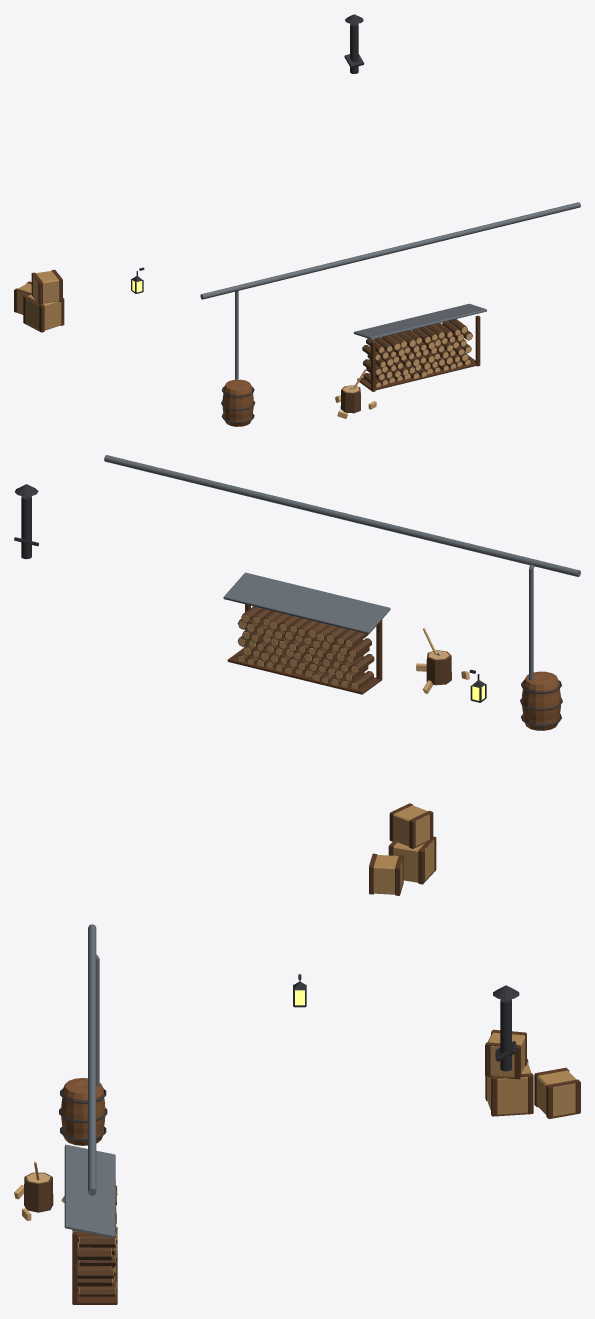
File: shed_props.glb
3 views of the same model, one above another, from view 1: azimuth 30°, elevation 25°; view 2: azimuth 150°, elevation 25°; view 3: azimuth 270°, elevation 25° (orthographic). The views are drawn at different scales.
Parts seen in each view (by area): view 1: ShedProps; view 2: ShedProps; view 3: ShedProps.
Part boxes in pixels (left/top/right/bottom): ShedProps: left=14, top=14, right=580, bottom=426; ShedProps: left=14, top=455, right=580, bottom=895; ShedProps: left=14, top=924, right=580, bottom=1304.
Bounding box in the file's own units: 9.75 × 5.45 × 8.25.
